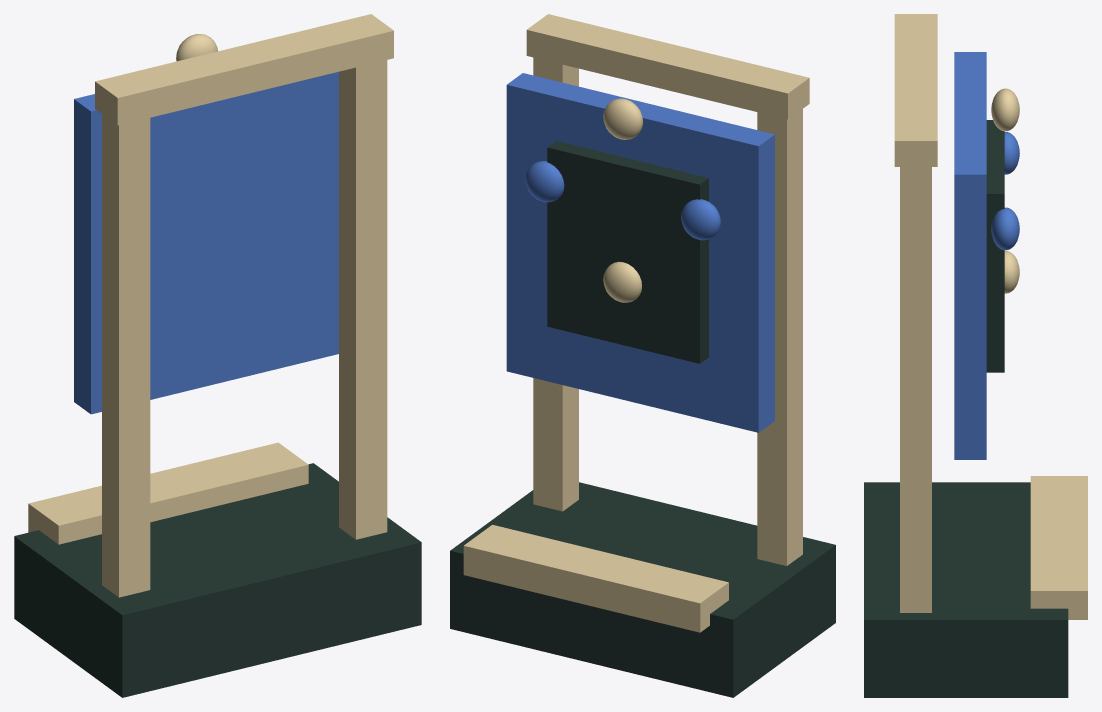
File: fanstand.sapphire-sparks-old.glb
3 renders of one model, left to right at view 1: azimuth 30°, elevation 25°; view 2: azimuth 150°, elevation 25°; view 3: azimuth 270°, elevation 25°, orthographic. The views are drawn at different scales.
Visible parts, largest first — view 1: support plinth; view 2: support plinth; view 3: support plinth.
Part boxes in pixels (x1,y1,x2,y2): support plinth: [14, 14, 421, 697]; support plinth: [450, 14, 835, 697]; support plinth: [864, 14, 1087, 697].
Size of the model in its own units: 0.91 by 1.7 by 0.625.
